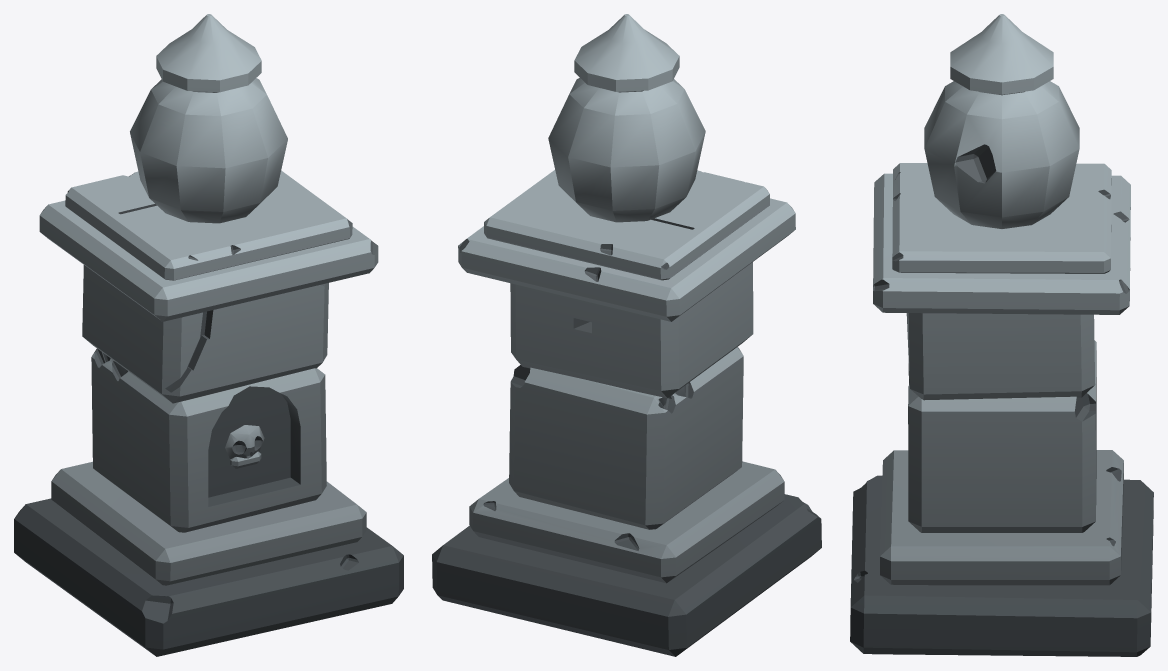
The model's file is grave_pedestal.glb.
3 views of the same model, side by side, from view 1: azimuth 30°, elevation 25°; view 2: azimuth 150°, elevation 25°; view 3: azimuth 270°, elevation 25° (orthographic). The views are drawn at different scales.
Parts seen in each view (by area): view 1: grave_pedestal; view 2: grave_pedestal; view 3: grave_pedestal.
Part boxes in pixels (x1=…): grave_pedestal: x1=14, y1=14, x2=403, y2=656; grave_pedestal: x1=432, y1=14, x2=821, y2=656; grave_pedestal: x1=850, y1=14, x2=1153, y2=656.
Bounding box in the file's own units: 1.13 × 2.36 × 1.12.
1 material, 1 textured.
